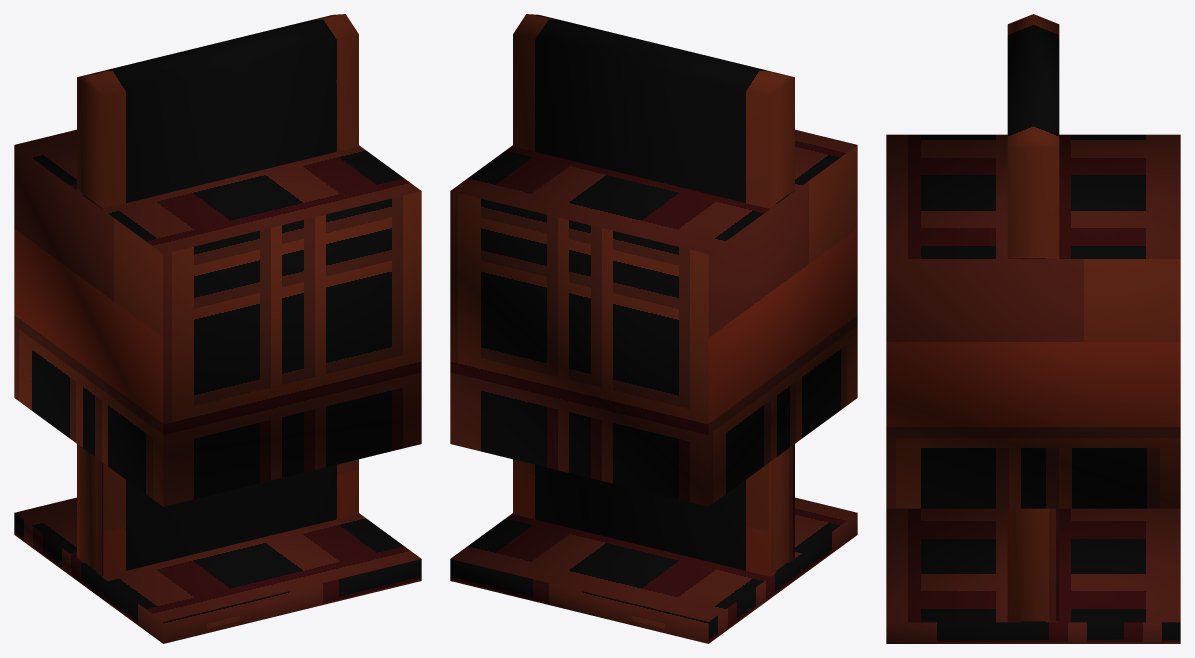
The picture shows the model from 3 angles, left to right: view 1: azimuth 30°, elevation 25°; view 2: azimuth 150°, elevation 25°; view 3: azimuth 270°, elevation 25°; orthographic projection.
Visible parts, largest first — view 1: 3269IMIG04_03; view 2: 3269IMIG04_03; view 3: 3269IMIG04_03.
Part boxes in pixels (x1,y1,x2,y2): 3269IMIG04_03: (14,14,421,643); 3269IMIG04_03: (450,14,857,643); 3269IMIG04_03: (886,14,1180,643).
Size of the model in its own units: 0.5615 by 1.06 by 0.5615.
4 materials, 4 textured.
